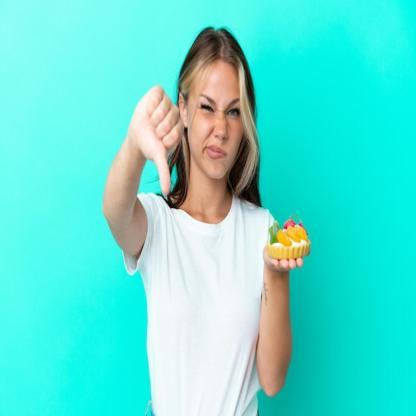thumb_down: (131, 82, 186, 200)
